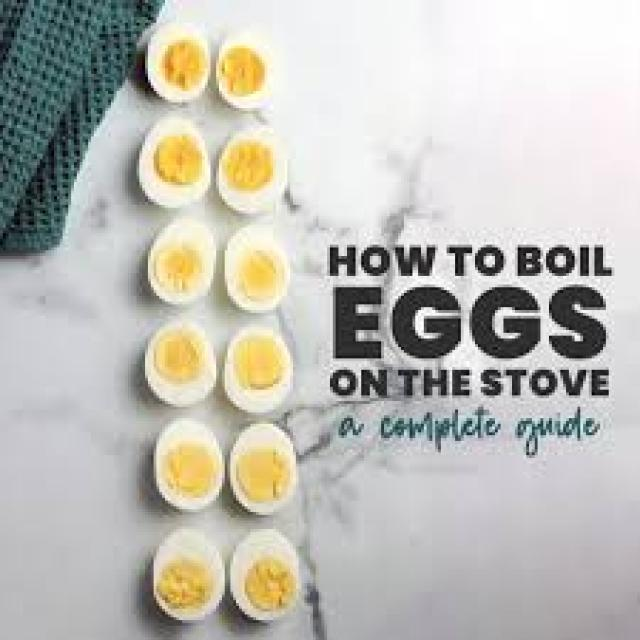boiled egg: (135, 14, 301, 630)
